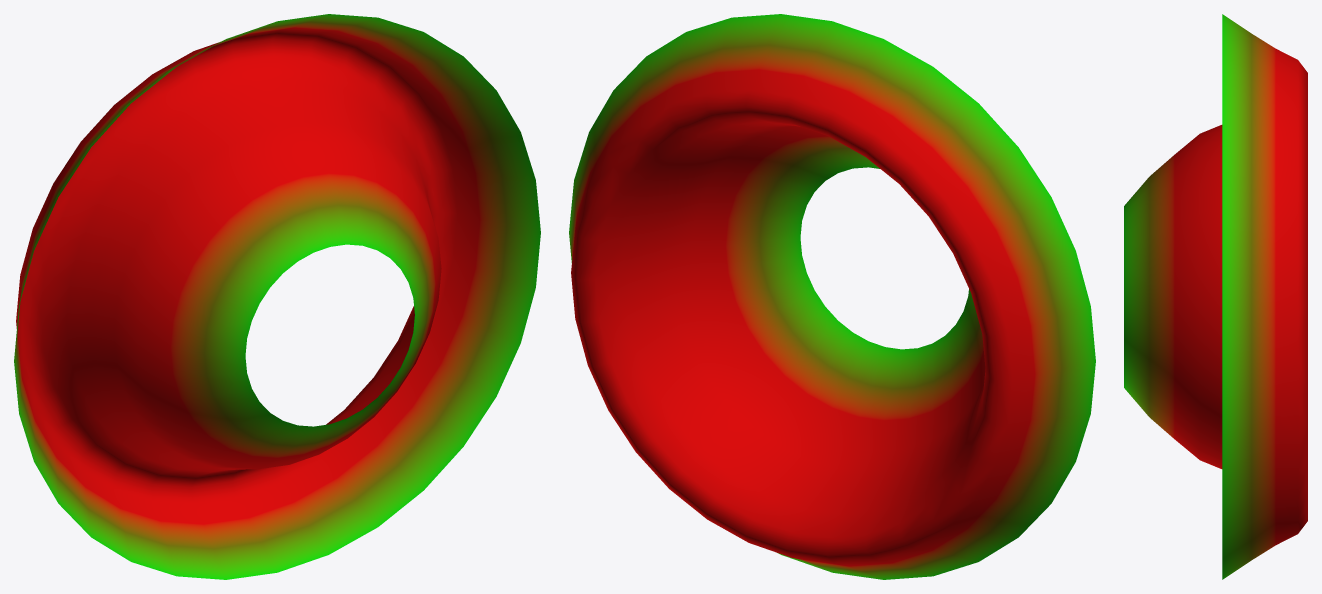
The model's file is SM_Kaiser_Fresnelfront_01.FBX.
3 views of the same model, side by side, from view 1: azimuth 30°, elevation 25°; view 2: azimuth 150°, elevation 25°; view 3: azimuth 270°, elevation 25° (orthographic). The views are drawn at different scales.
Parts seen in each view (by area): view 1: SM_Kaiser_Fresnelfront_01; view 2: SM_Kaiser_Fresnelfront_01; view 3: SM_Kaiser_Fresnelfront_01.
Boxes of the visible parts, x1=… form: SM_Kaiser_Fresnelfront_01: x1=14, y1=14, x2=540, y2=579; SM_Kaiser_Fresnelfront_01: x1=569, y1=14, x2=1095, y2=579; SM_Kaiser_Fresnelfront_01: x1=1124, y1=14, x2=1307, y2=579.
Size of the model in its own units: 528 by 171 by 528.
